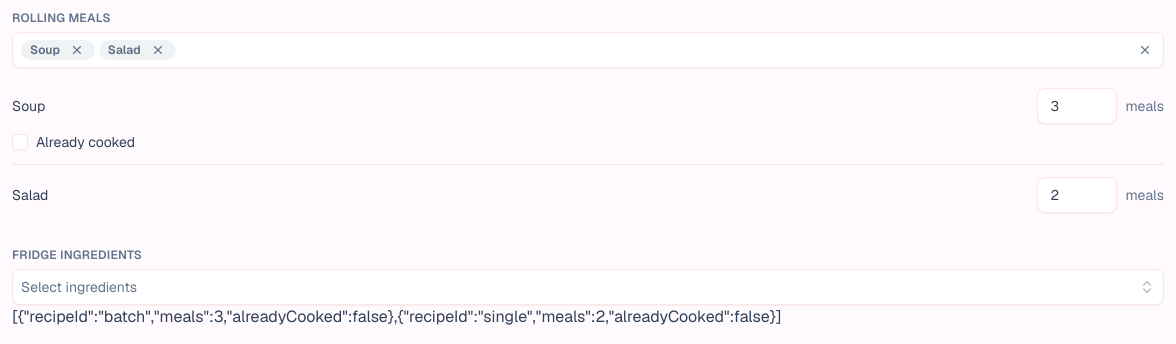
Test: PlannerRollingRecipesSection › edits every rolling count and offers an unchecked cooked option only for batches
Expected: the number field named "Rolling meals for Salad" holds "2", x1=1038 y1=177 x2=1118 y2=213
Click the checkbox named "Already cooked Soup" at (20, 142), box x1=12 y1=134 x2=28 y2=150
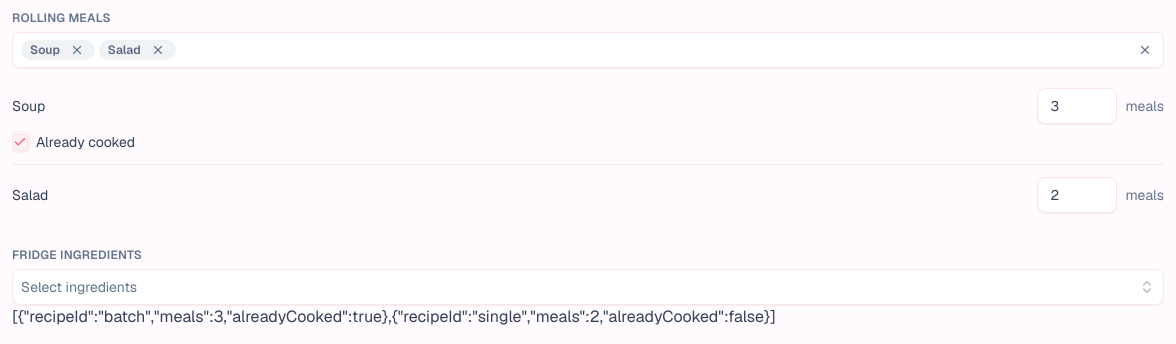
Expected: the text named "Rolling state" shows "\"alreadyCooked\":true", x1=12 y1=306 x2=776 y2=327
